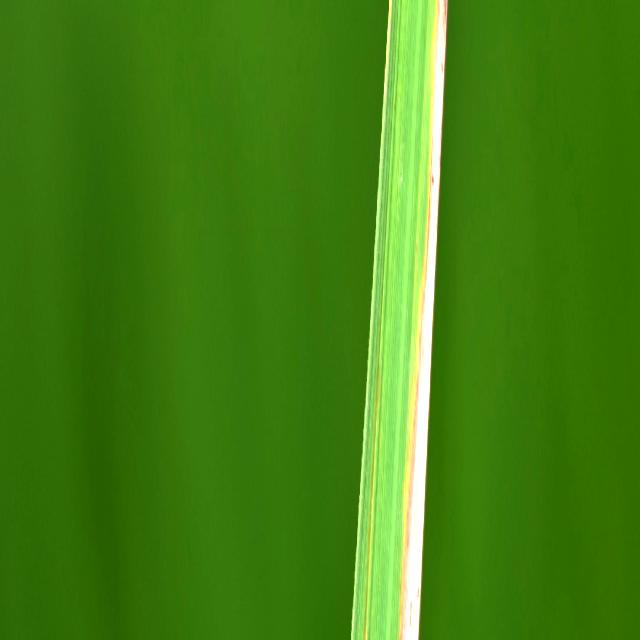BLB: (399, 0, 447, 640)
